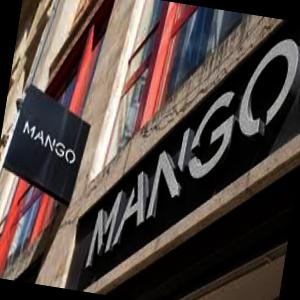mango: (2, 73, 300, 95), (71, 98, 98, 212)
